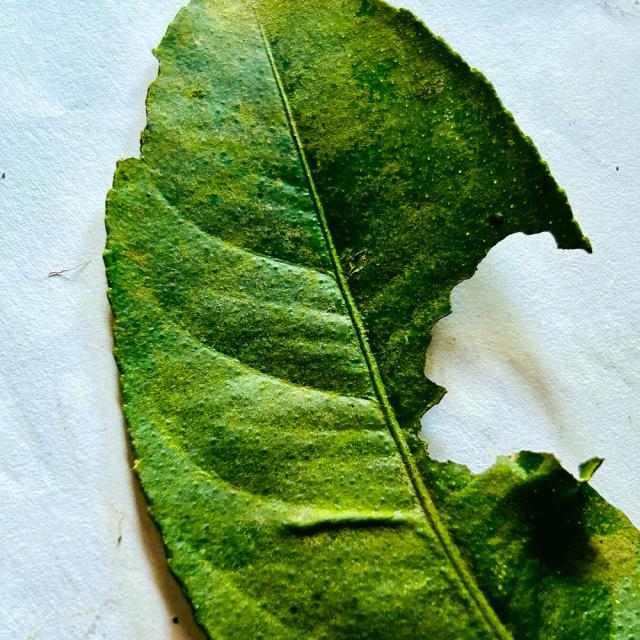Deficiency Leaf: (421, 234, 609, 477)
Lemon: (104, 0, 639, 639)
